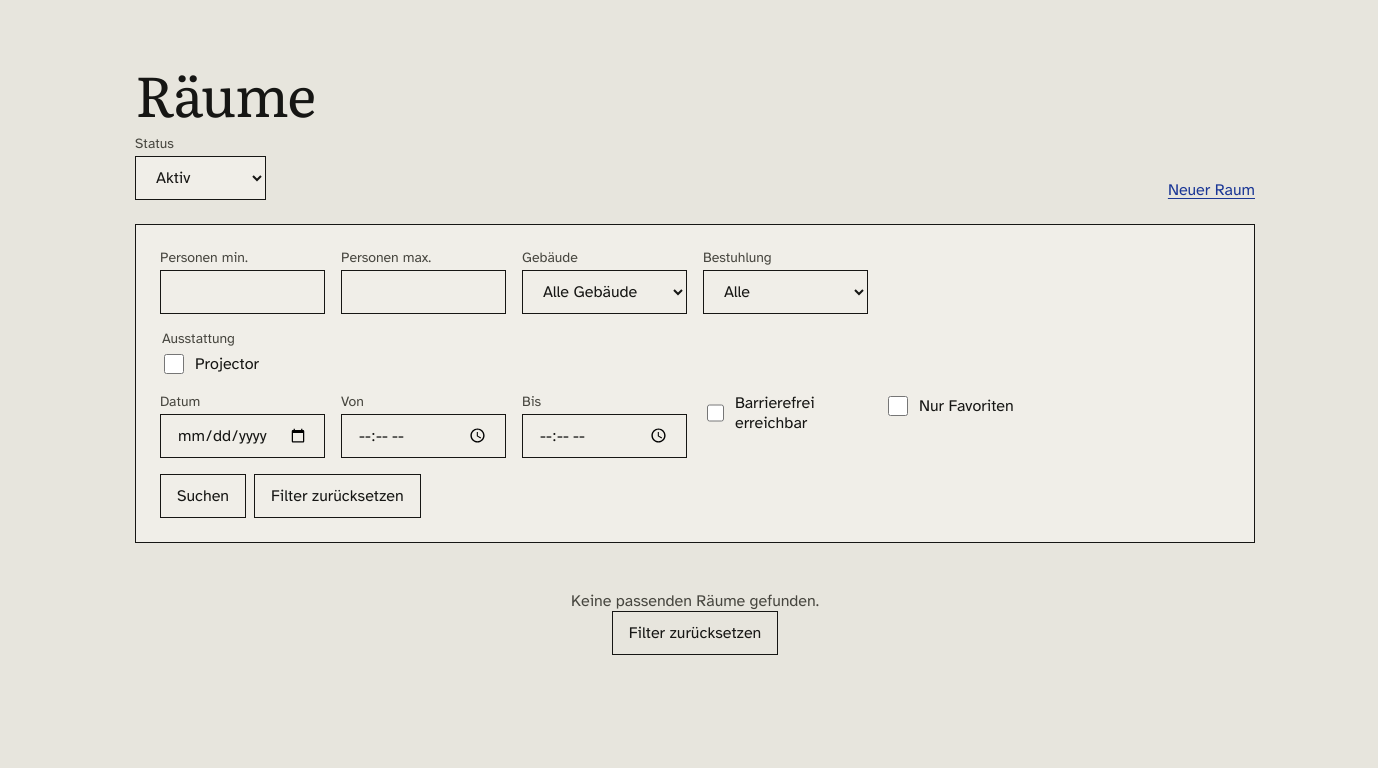
RoomListPage › updates the URL and searches again when the panel is submitted
Type "20" into the number field labelled "Personen min." at [242, 292], box x1=160 y1=270 x2=325 y2=314
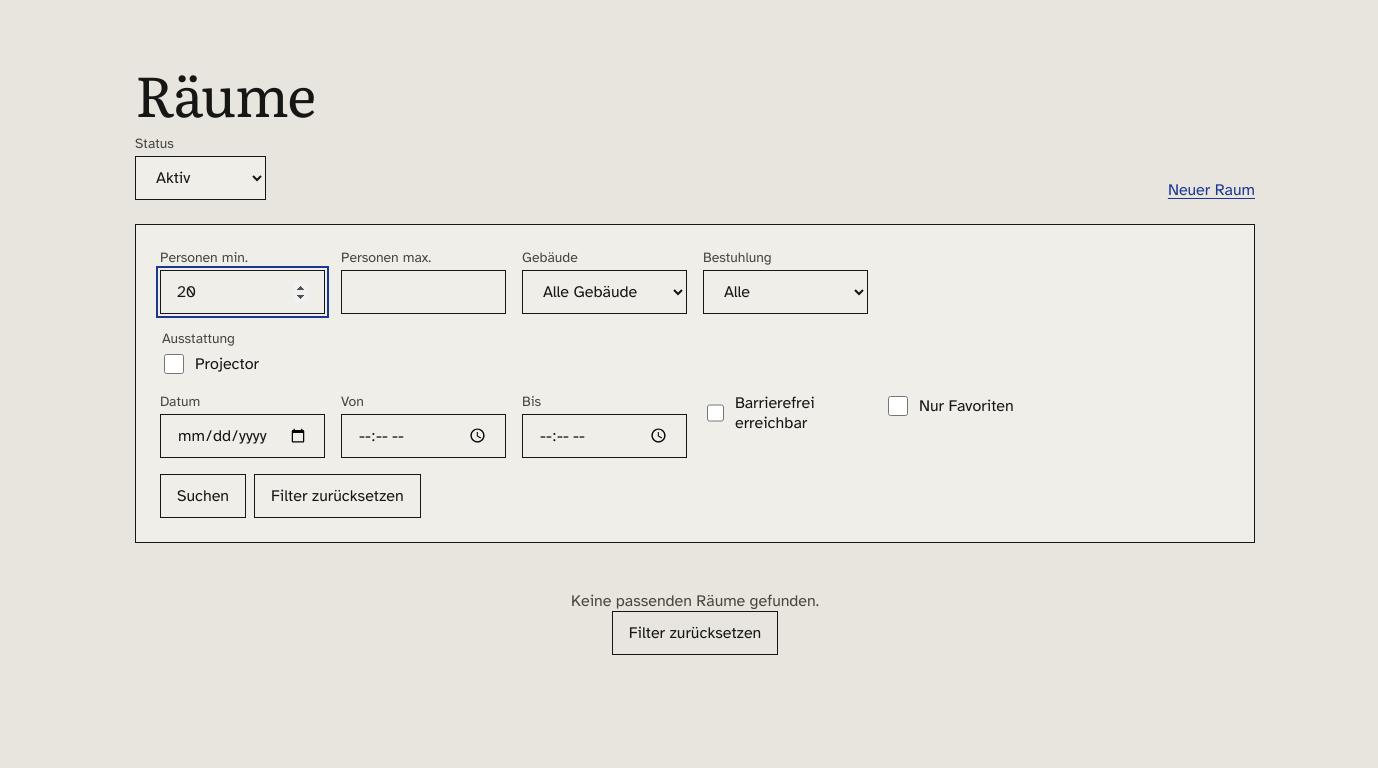
Click the button "Suchen" at [203, 496], box x1=160 y1=474 x2=246 y2=518
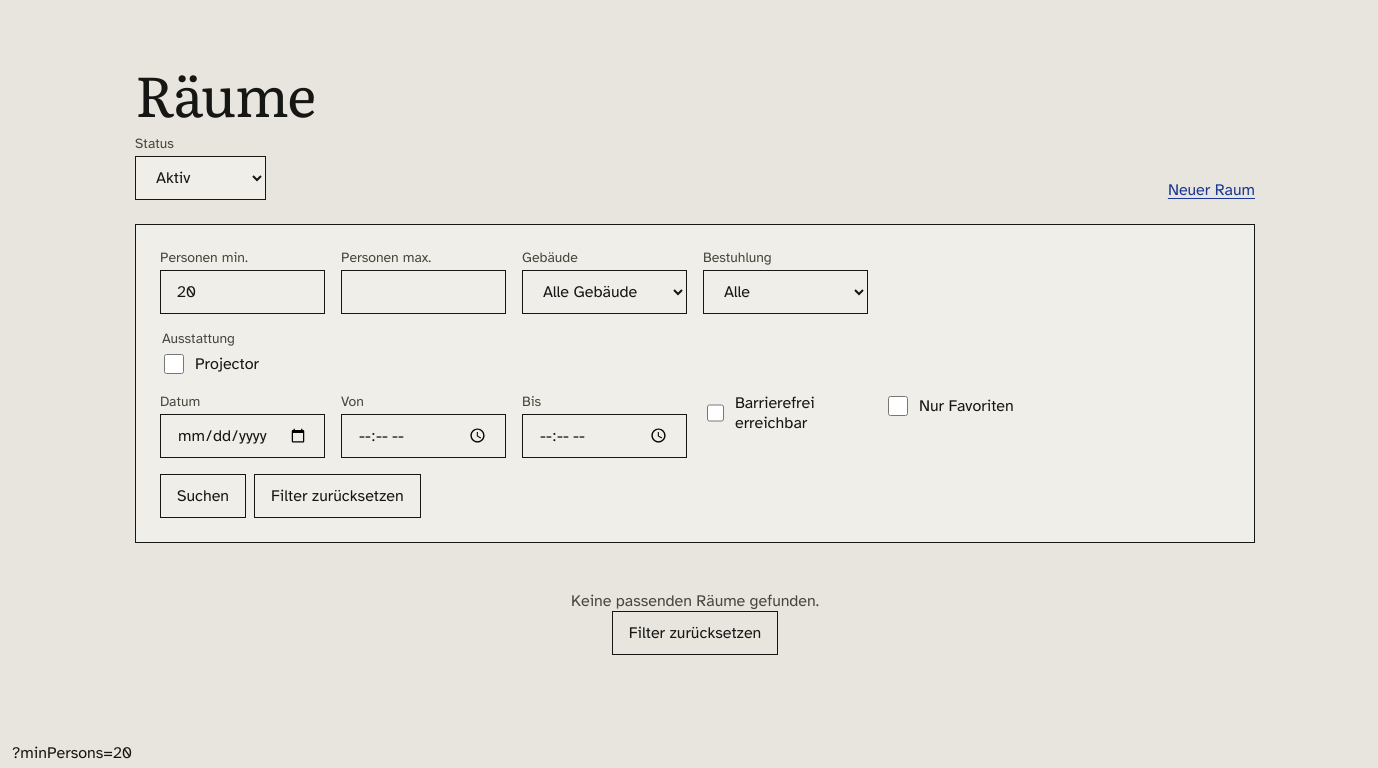
Check: the text with test id "location-search" reads "?minPersons=20", box x1=12 y1=743 x2=132 y2=763
